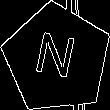N_S: (32, 30, 82, 88)
